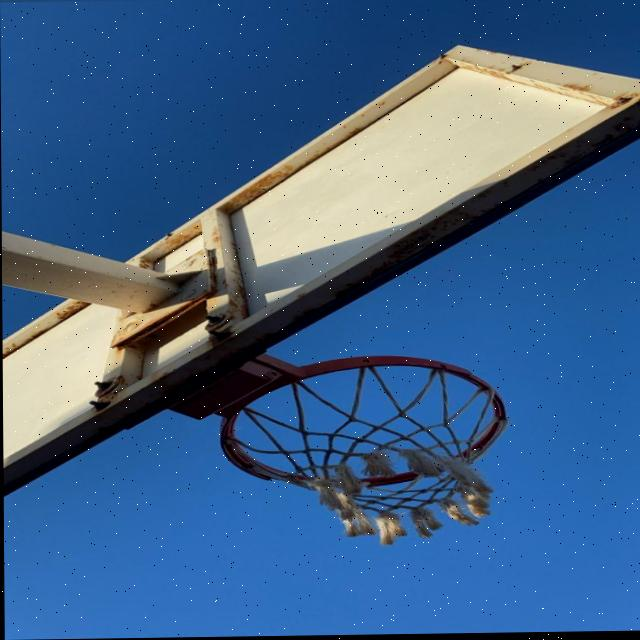hoop: (234, 350, 521, 556)
